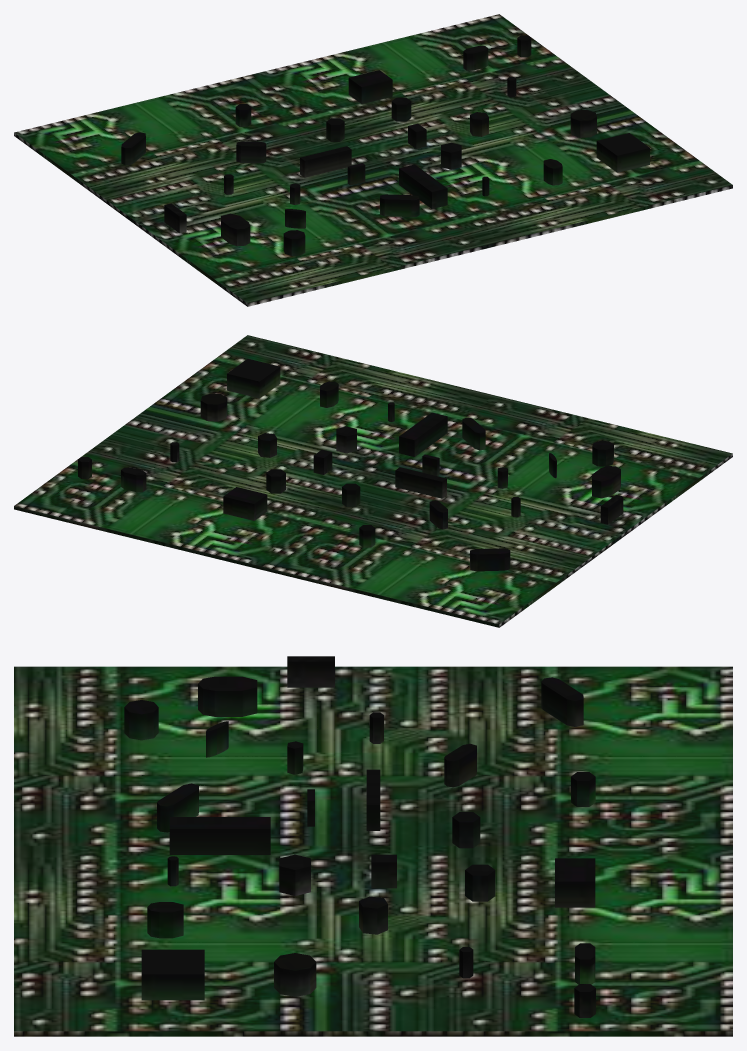
Rendered from pcbBoardA.glb.
The picture shows the model from 3 angles, top to bottom: view 1: azimuth 30°, elevation 25°; view 2: azimuth 150°, elevation 25°; view 3: azimuth 270°, elevation 25°; orthographic projection. The views are drawn at different scales.
Visible parts, largest first — view 1: Asset3DLoader.sceneRoot; view 2: Asset3DLoader.sceneRoot; view 3: Asset3DLoader.sceneRoot.
Boxes of the visible parts, x1,y1,x2,y2 form: Asset3DLoader.sceneRoot: (14, 14, 732, 306); Asset3DLoader.sceneRoot: (14, 335, 732, 627); Asset3DLoader.sceneRoot: (14, 656, 732, 1036).
Size of the model in its own units: 300 by 12 by 250.
Materials: 1 (1 with a texture image).
